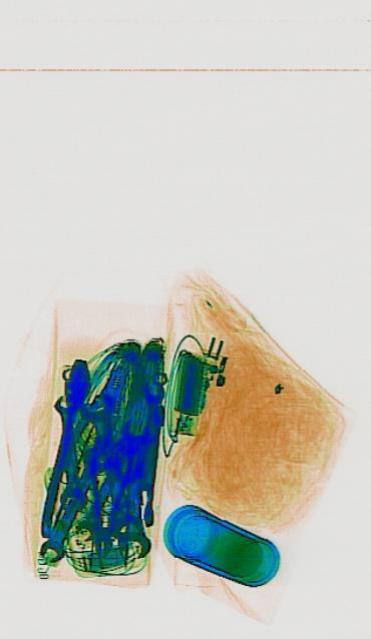Pliers: (45, 346, 142, 543)
Wrench: (79, 385, 133, 530), (36, 461, 97, 570), (49, 392, 85, 509), (118, 418, 148, 558), (72, 468, 117, 547)
